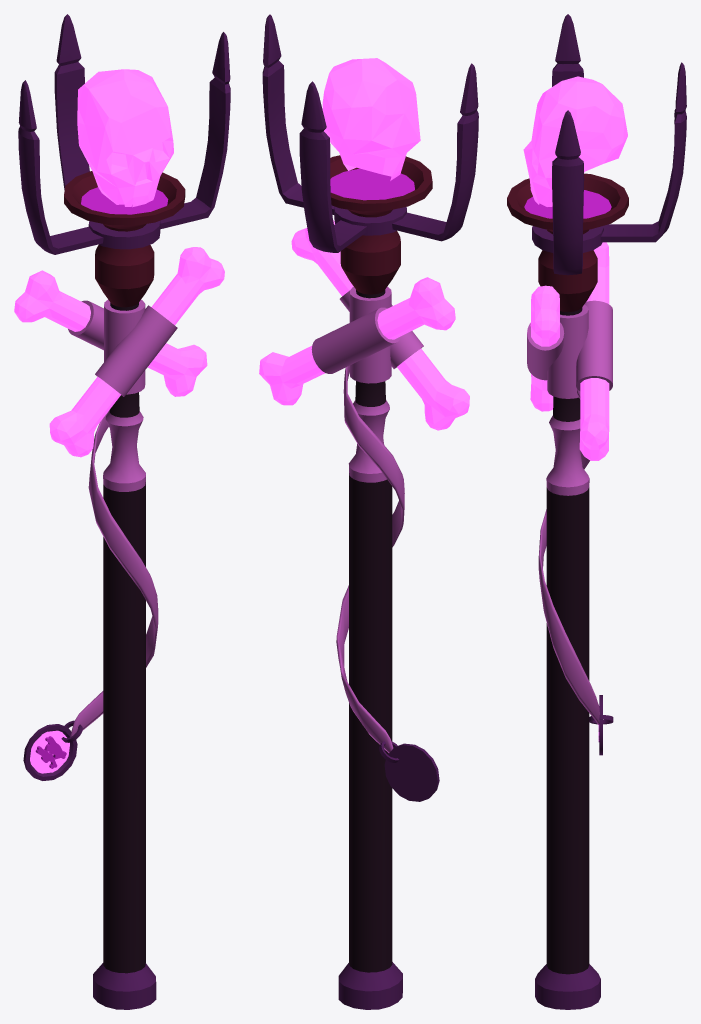
File: Necromancy staff.fbx
3 renders of one model, left to right at view 1: azimuth 30°, elevation 25°; view 2: azimuth 150°, elevation 25°; view 3: azimuth 270°, elevation 25°, orthographic. The views are drawn at different scales.
Parts seen in each view (by area): view 1: Necromancy staff, Necromancy staff decor, Necromancy staff crystal, Bone, Bone 2, Necro_Ribbon 2, keychain_necro, Necro_Ribbon, Necromancy icon; view 2: Necromancy staff, Necromancy staff decor, Necromancy staff crystal, Bone 2, Bone, Necro_Ribbon 2, keychain_necro, Necro_Ribbon; view 3: Necromancy staff, Necromancy staff decor, Necromancy staff crystal, Bone 2, Bone, Necro_Ribbon 2, Necro_Ribbon.
Boxes of the visible parts, x1=… form: Necromancy staff: x1=64, y1=171, x2=185, y2=1009; Necromancy staff decor: x1=18, y1=14, x2=230, y2=254; Necromancy staff crystal: x1=77, y1=69, x2=173, y2=207; Bone: x1=49, y1=247, x2=224, y2=457; Bone 2: x1=14, y1=270, x2=207, y2=396; Necro_Ribbon 2: x1=70, y1=410, x2=158, y2=736; keychain_necro: x1=23, y1=720, x2=82, y2=780; Necro_Ribbon: x1=104, y1=299, x2=145, y2=394; Necromancy icon: x1=35, y1=736, x2=66, y2=768; Necromancy staff: x1=330, y1=155, x2=432, y2=1009; Necromancy staff decor: x1=262, y1=14, x2=478, y2=252; Necromancy staff crystal: x1=322, y1=58, x2=420, y2=180; Bone 2: x1=259, y1=277, x2=455, y2=405; Bone: x1=291, y1=220, x2=469, y2=430; Necro_Ribbon 2: x1=336, y1=365, x2=404, y2=752; keychain_necro: x1=379, y1=741, x2=439, y2=801; Necro_Ribbon: x1=349, y1=286, x2=391, y2=383; Necromancy staff: x1=507, y1=173, x2=628, y2=1009; Necromancy staff decor: x1=552, y1=14, x2=686, y2=275; Necromancy staff crystal: x1=523, y1=76, x2=627, y2=206; Bone 2: x1=576, y1=242, x2=612, y2=460; Bone: x1=527, y1=285, x2=564, y2=411; Necro_Ribbon 2: x1=538, y1=389, x2=599, y2=724; Necro_Ribbon: x1=547, y1=304, x2=588, y2=398.
Bounding box in the file's own units: 0.4736 × 2.05 × 0.3582.
